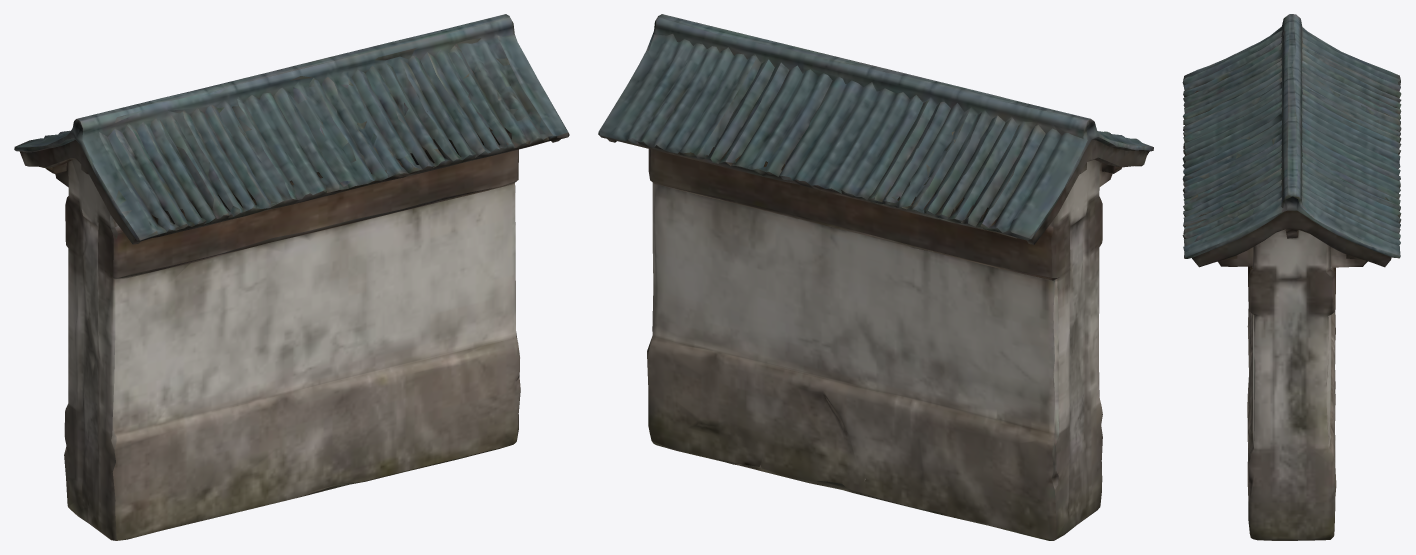
The model's file is ARCH-017.glb.
3 views of the same model, side by side, from view 1: azimuth 30°, elevation 25°; view 2: azimuth 150°, elevation 25°; view 3: azimuth 270°, elevation 25° (orthographic). The views are drawn at different scales.
Parts seen in each view (by area): view 1: world; view 2: world; view 3: world.
Boxes of the visible parts, x1,y1,x2,y2 form: world: (14, 14, 569, 540); world: (598, 14, 1153, 540); world: (1182, 14, 1401, 540).
Bounding box in the file's own units: 3.11 × 2.8 × 1.57.
Materials: 1 (1 with a texture image).
